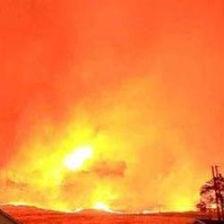fire: (4, 133, 224, 221)
